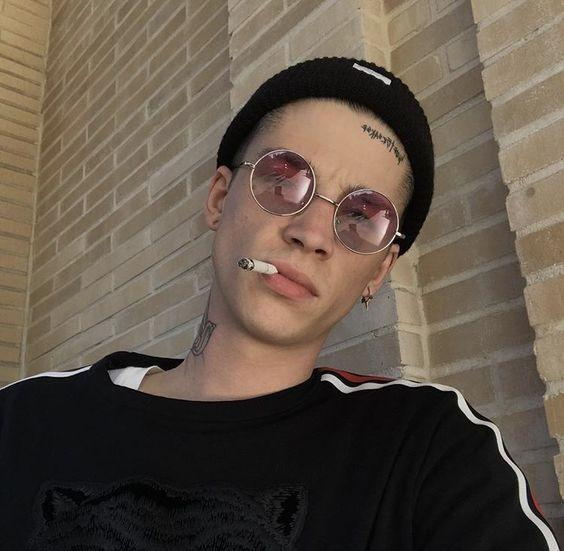cigarette: (237, 257, 278, 274)
